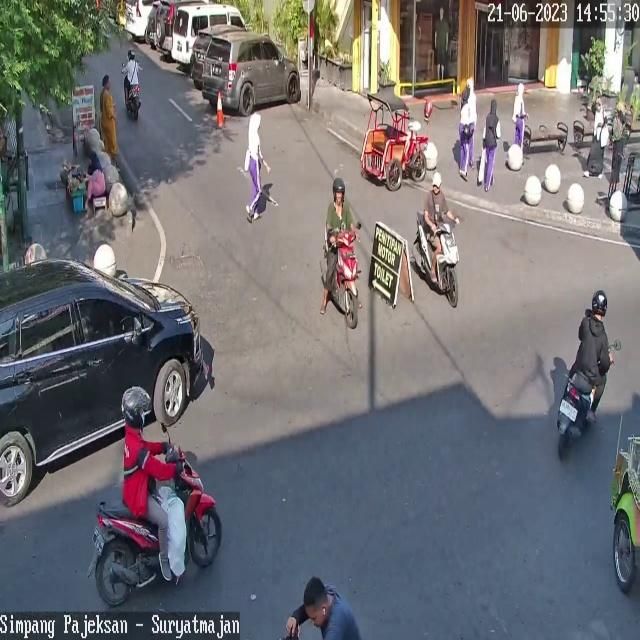bus: (86, 446, 225, 608), (414, 211, 461, 305), (320, 228, 360, 328), (558, 370, 596, 458), (128, 83, 142, 123)
motorcycle: (0, 261, 209, 506), (203, 31, 300, 116), (172, 4, 247, 64), (190, 28, 213, 83), (154, 0, 175, 54), (134, 0, 152, 36)
